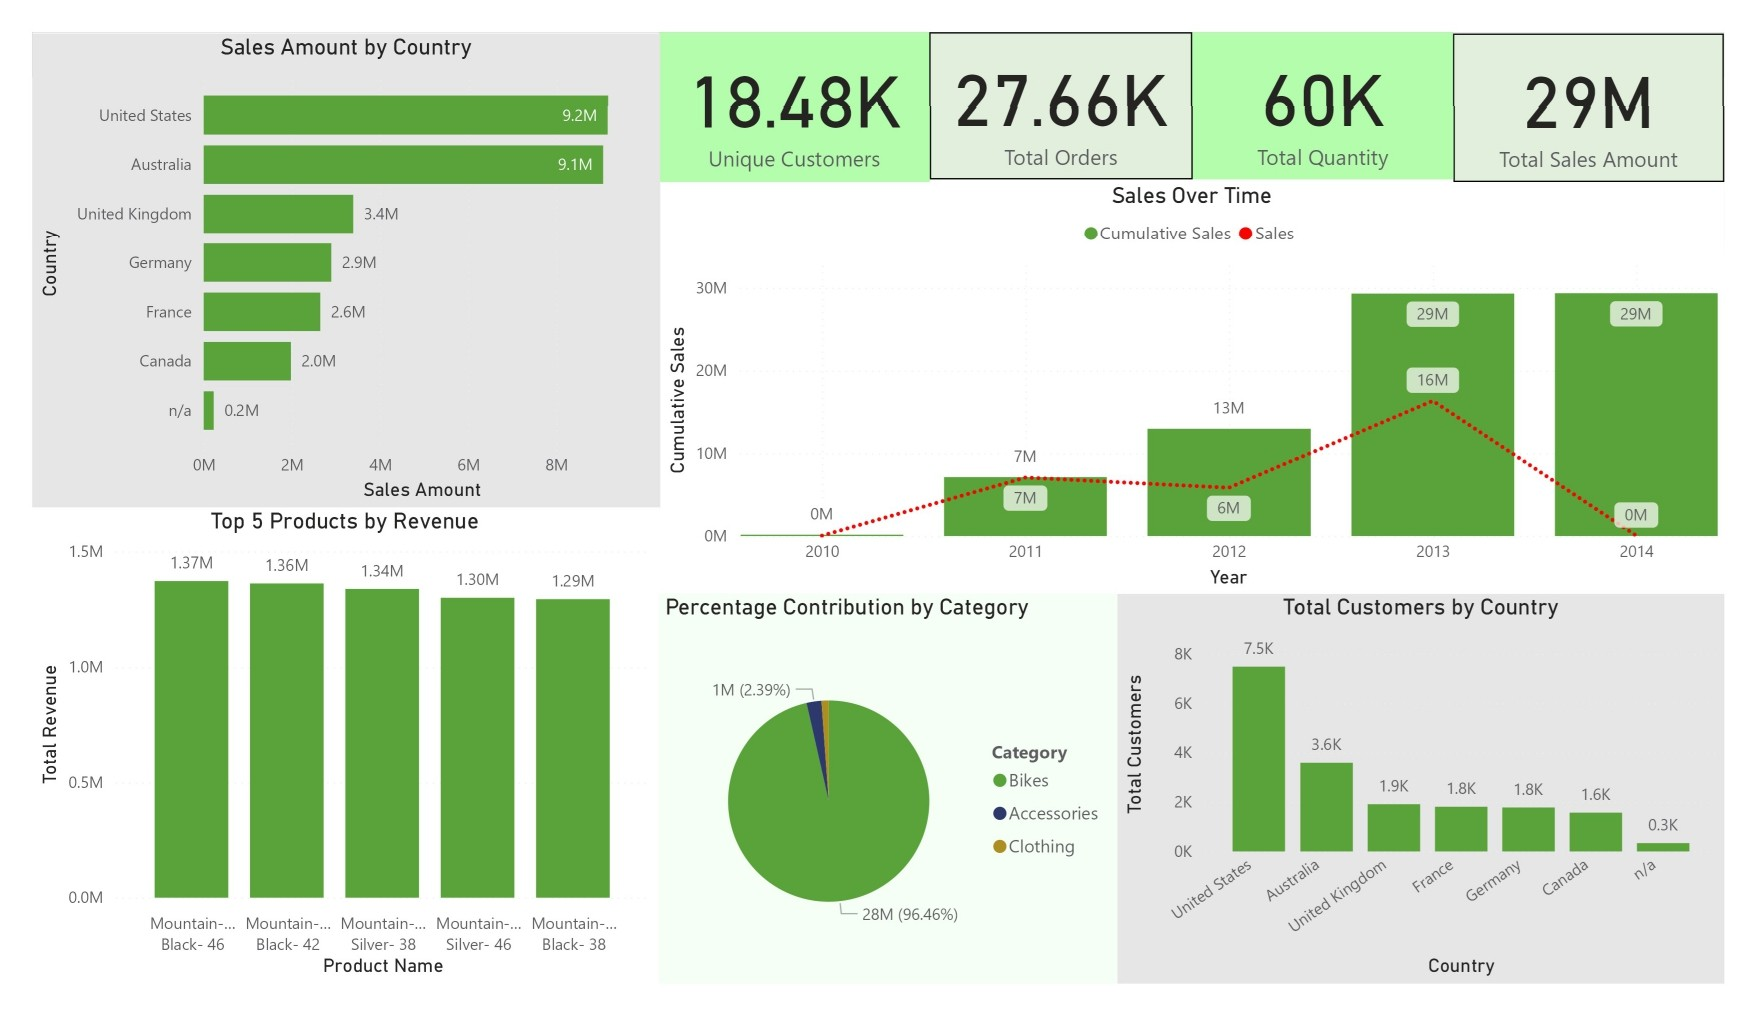

Layout of this report page (visuals, bound fields, positions):
{"tool":"powerbi","page":{"name":"Page 1","canvas":[1280,720],"ordinal":0},"visuals":[{"type":"card","fields":{"Values":["Sum(sales_data_complete.sales_amount)"]},"box":[1075,1.2,205,111.2],"z":0},{"type":"card","fields":{"Values":["Sum(sales_data_complete.quantity)"]},"box":[877.5,0,197.5,111.2],"z":1000},{"type":"card","fields":{"Values":["Count(sales_data_complete.order_number)"]},"box":[678.8,0,198.8,111.2],"z":2000},{"type":"card","fields":{"Values":["Count(sales_data_complete.customer_key)"]},"box":[473.8,0,205,112.5],"z":3000},{"type":"columnChart","title":"Total Customers by Country","fields":{"Category":["sales_data_complete.country"],"Y":["Count(sales_data_complete.customer_key)"]},"box":[821.2,425,458.8,295],"z":4000},{"type":"lineStackedColumnComboChart","title":"Sales Over Time","fields":{"Category":["sales_data_complete.order_date.Variation.Date Hierarchy.Year"],"Y2":["Sum(sales_data_complete.sales_amount)"],"Y":["sales_data_complete.sales_amount running total in Year"]},"box":[474.5,112.7,805.9,312.2],"z":5000},{"type":"clusteredBarChart","fields":{"Y":["Sum(sales_data_complete.sales_amount)"],"Category":["sales_data_complete.country"]},"box":[0,1.1,474.5,358.4],"z":6000},{"type":"columnChart","title":"Top 5 Products by Revenue","fields":{"Category":["sales_data_complete.product_name"],"Y":["Sum(sales_data_complete.sales_amount)"]},"box":[0,359.6,473.4,360.7],"z":7000},{"type":"pieChart","fields":{"Category":["sales_data_complete.category"],"Y":["Sum(sales_data_complete.sales_amount)"]},"box":[473.8,425,347.5,295],"z":8000}]}

Visuals, with their boxes in screenshot pixels (x1, y1, x2, y2), scaled from the page's 1280x720 canvas onto the 1755x1009 screenshot:
card - Sum(sales_data_complete.sales_amount): [1474,2,1754,158]
card - Sum(sales_data_complete.quantity): [1203,0,1474,156]
card - Count(sales_data_complete.order_number): [931,0,1203,156]
card - Count(sales_data_complete.customer_key): [650,0,931,158]
"Total Customers by Country" columnChart: [1126,596,1754,1008]
"Sales Over Time" lineStackedColumnComboChart: [651,158,1754,595]
clusteredBarChart - Sum(sales_data_complete.sales_amount) x sales_data_complete.country: [0,2,651,504]
"Top 5 Products by Revenue" columnChart: [0,504,649,1008]
pieChart - sales_data_complete.category x Sum(sales_data_complete.sales_amount): [650,596,1126,1008]
